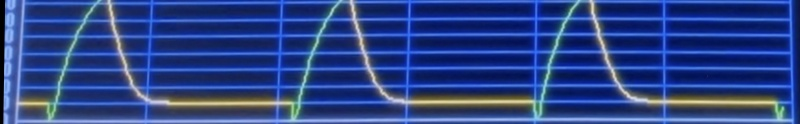leakage: (19, 0, 784, 124)
